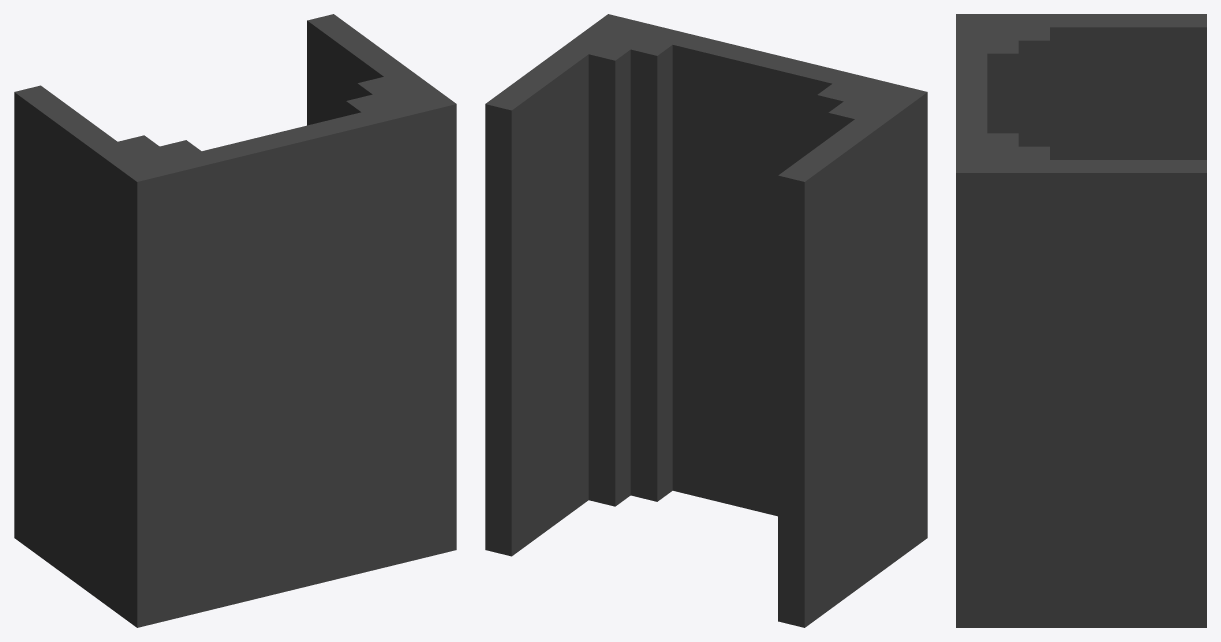
File: ubeam.obj
The picture shows the model from 3 angles, left to right: view 1: azimuth 30°, elevation 25°; view 2: azimuth 150°, elevation 25°; view 3: azimuth 270°, elevation 25°; orthographic projection. The views are drawn at different scales.
Size of the model in its own units: 1.2 by 1.6 by 0.8.
1 material, 1 textured.
